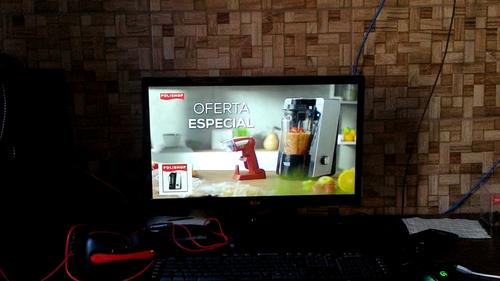Polishop #1: (158, 162, 192, 195)
